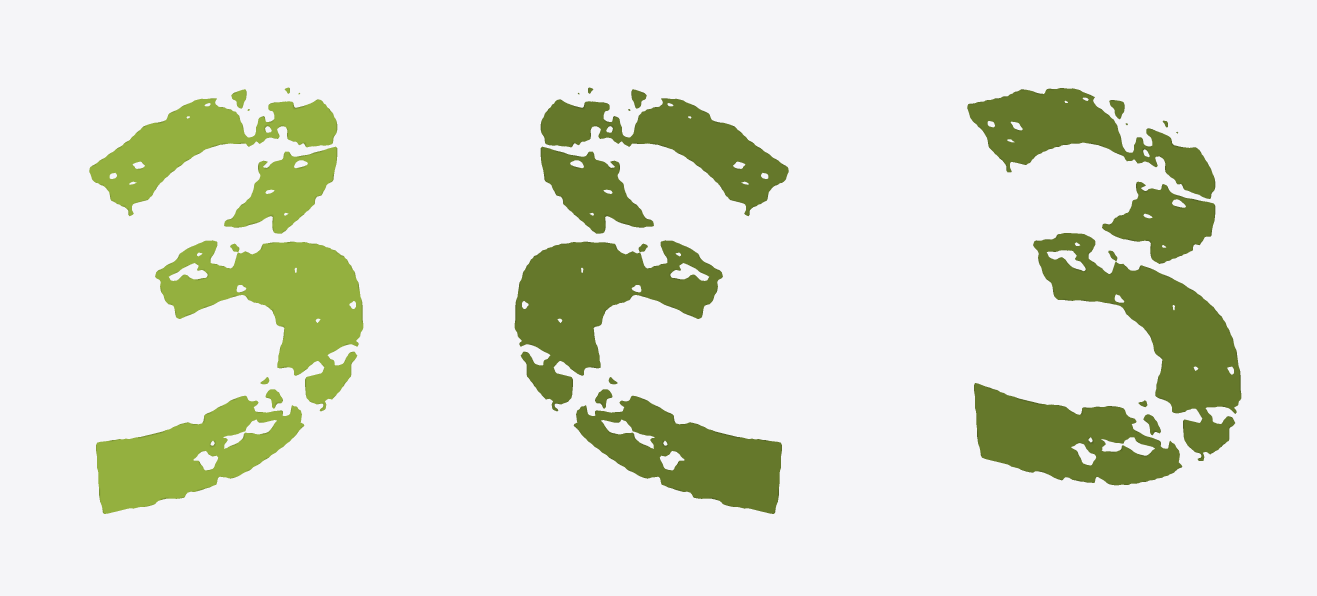
The model's file is floor_3_sign.FBX.
3 views of the same model, side by side, from view 1: azimuth 30°, elevation 25°; view 2: azimuth 150°, elevation 25°; view 3: azimuth 330°, elevation 25° (orthographic).
Visible parts, largest first — view 1: floor_3_sign; view 2: floor_3_sign; view 3: floor_3_sign.
Boxes of the visible parts, x1=… form: floor_3_sign: x1=89, y1=87, x2=363, y2=513; floor_3_sign: x1=514, y1=87, x2=788, y2=513; floor_3_sign: x1=967, y1=88, x2=1241, y2=485.
Size of the model in its own units: 41.08 by 44.76 by 1.3e-05.
